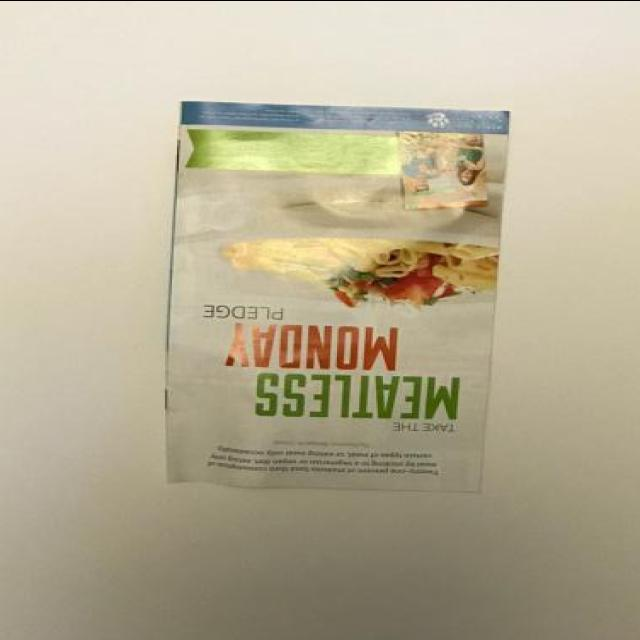kertas: (162, 98, 510, 492)
